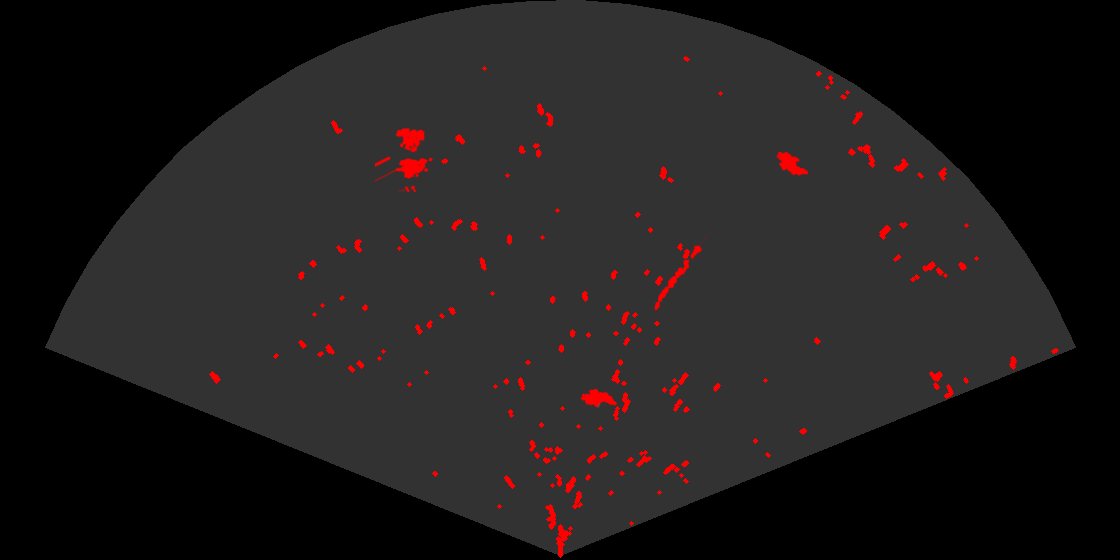AUV: (775, 150, 810, 177), (579, 387, 619, 409)
cage: (375, 126, 434, 192)
chain: (653, 234, 707, 312)
